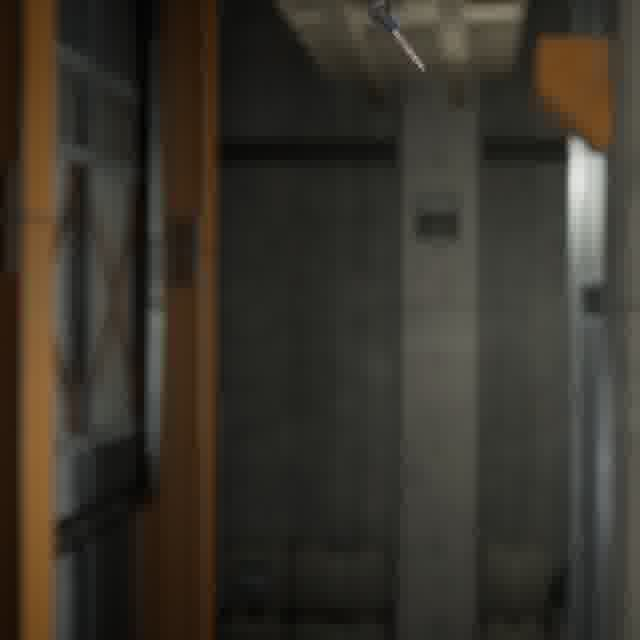bolt: (363, 0, 430, 76)
